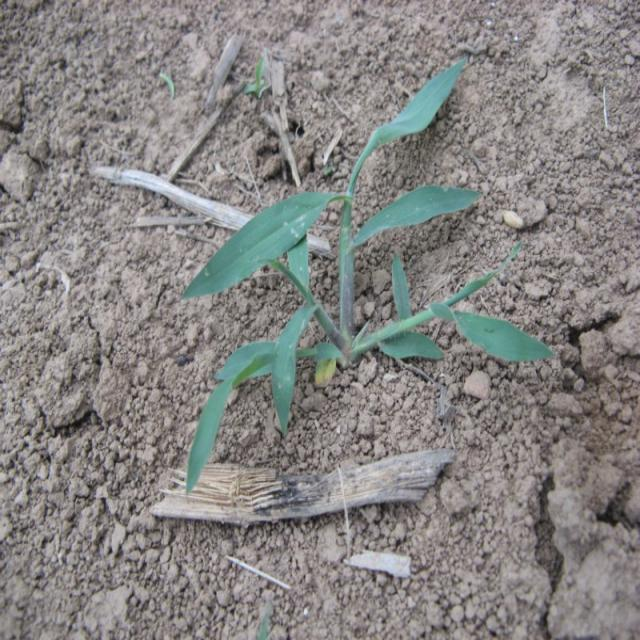bg: (180, 50, 560, 493)
